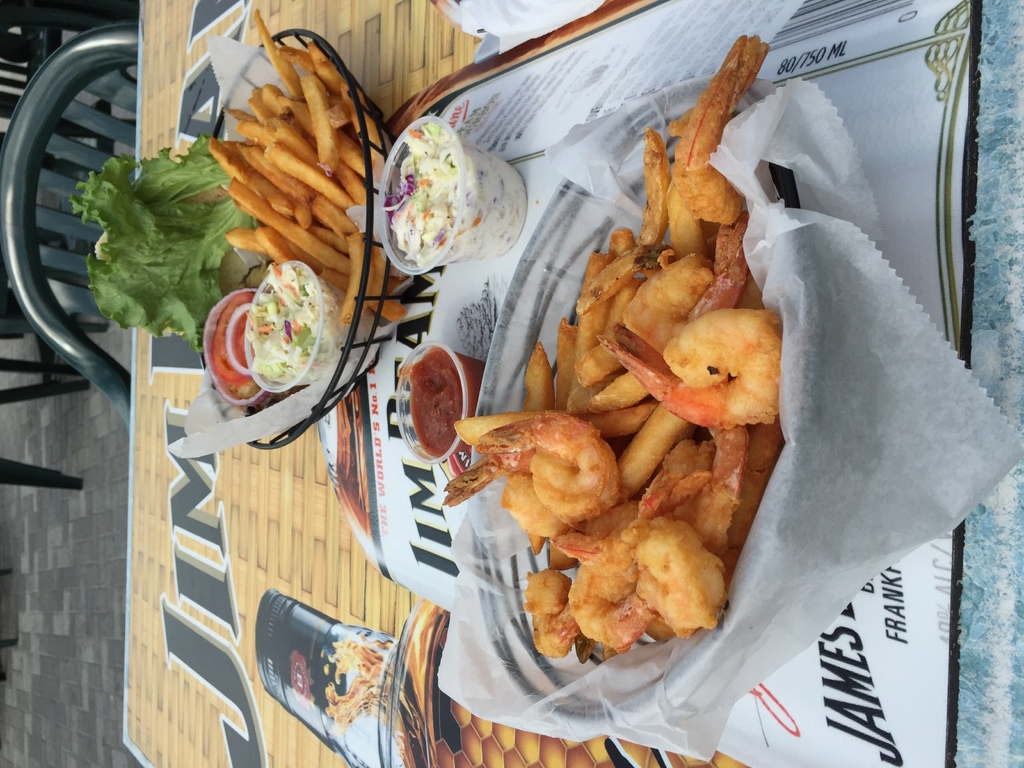French fries: (191, 53, 376, 275)
